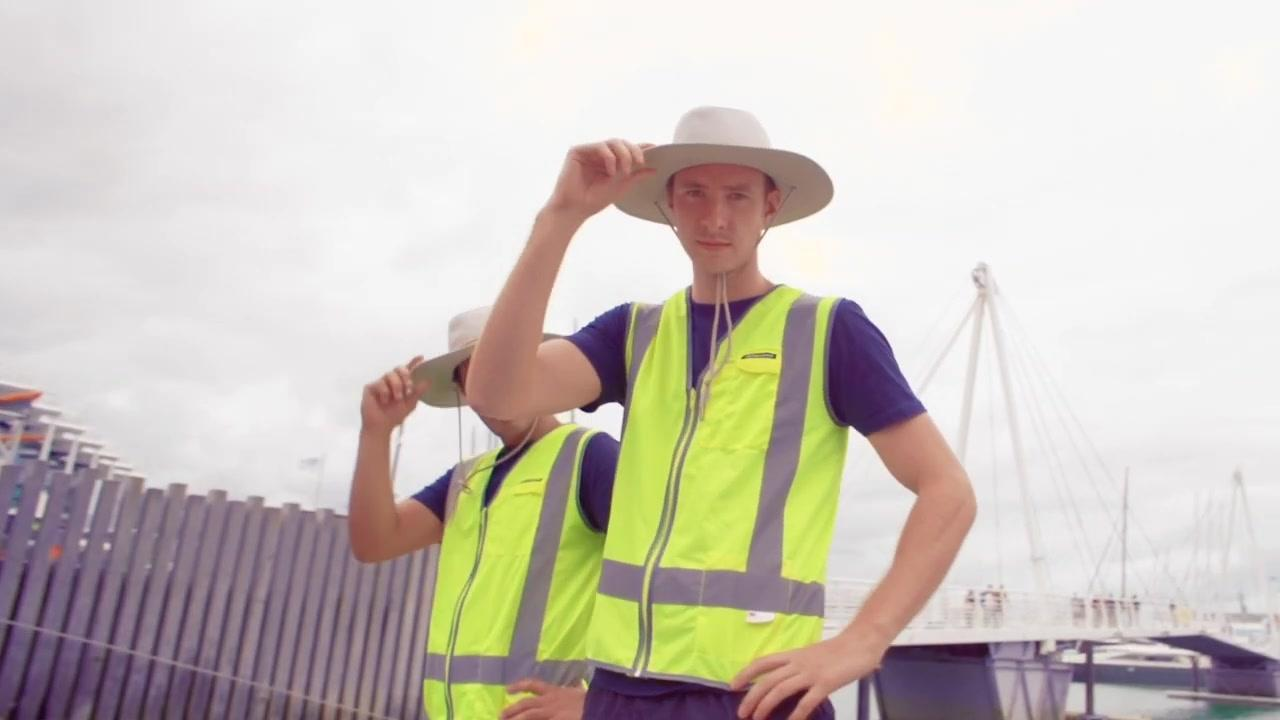vest: (578, 277, 867, 694), (418, 424, 609, 717)
